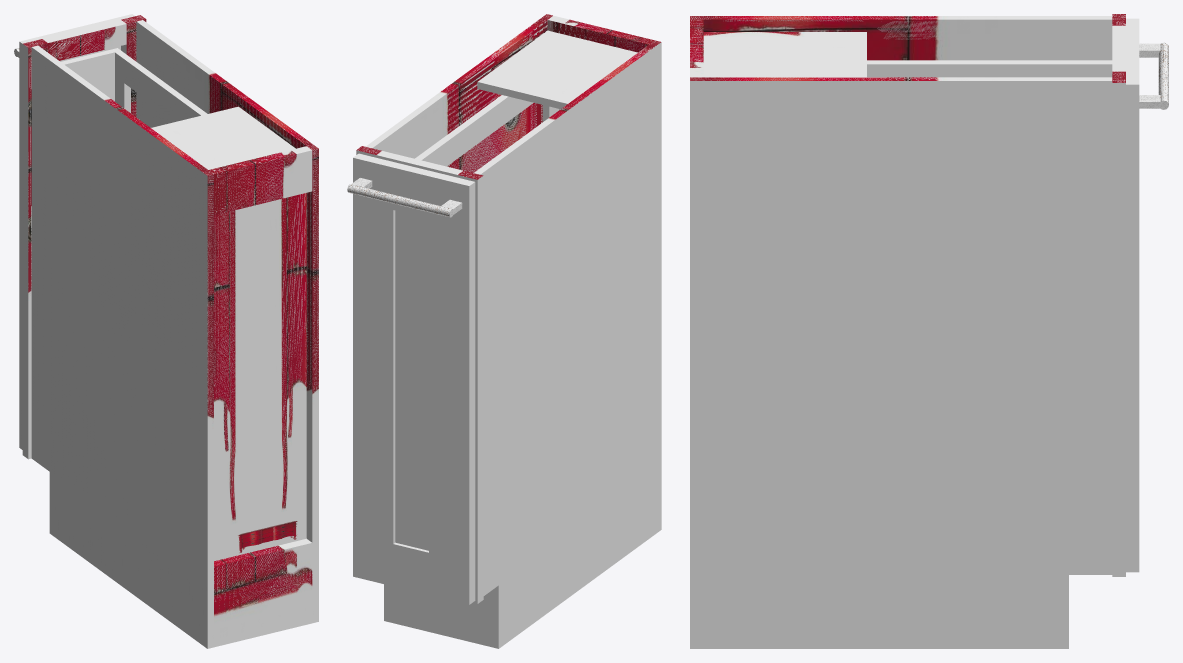
The picture shows the model from 3 angles, left to right: view 1: azimuth 30°, elevation 25°; view 2: azimuth 150°, elevation 25°; view 3: azimuth 270°, elevation 25°; orthographic projection. The views are drawn at different scales.
Visible parts, largest first — view 1: mesh7_mesh7-geometry, mesh4_mesh4-geometry, mesh8_mesh8-geometry, mesh10_mesh10-geometry, mesh12_mesh12-geometry, mesh6_mesh6-geometry, mesh14_mesh14-geometry, mesh2_mesh2-geometry, mesh3_mesh3-geometry, mesh15_mesh15-geometry, mesh5_mesh5-geometry, mesh30_mesh30-geometry (+4 smaller); view 2: mesh7_mesh7-geometry, mesh22_mesh22-geometry, mesh24_mesh24-geometry, mesh26_mesh26-geometry, mesh8_mesh8-geometry, mesh10_mesh10-geometry, mesh6_mesh6-geometry, mesh14_mesh14-geometry, mesh2_mesh2-geometry, mesh13_mesh13-geometry, mesh15_mesh15-geometry, mesh3_mesh3-geometry (+4 smaller); view 3: mesh10_mesh10-geometry, mesh11_mesh11-geometry, mesh9_mesh9-geometry, mesh7_mesh7-geometry, mesh14_mesh14-geometry, mesh2_mesh2-geometry, mesh24_mesh24-geometry, mesh15_mesh15-geometry, mesh6_mesh6-geometry, mesh3_mesh3-geometry, mesh27_mesh27-geometry.
Boxes of the visible parts, x1,y1,x2,y2 form: mesh7_mesh7-geometry: (49, 58, 213, 587); mesh4_mesh4-geometry: (214, 193, 306, 561); mesh8_mesh8-geometry: (49, 472, 213, 648); mesh10_mesh10-geometry: (154, 33, 318, 561); mesh12_mesh12-geometry: (214, 538, 312, 647); mesh6_mesh6-geometry: (31, 45, 55, 471); mesh14_mesh14-geometry: (151, 106, 295, 169); mesh2_mesh2-geometry: (22, 15, 146, 459); mesh3_mesh3-geometry: (208, 146, 312, 215); mesh15_mesh15-geometry: (124, 57, 207, 121); mesh5_mesh5-geometry: (43, 20, 126, 60); mesh30_mesh30-geometry: (228, 513, 306, 557); mesh7_mesh7-geometry: (492, 40, 661, 584); mesh22_mesh22-geometry: (429, 172, 475, 604); mesh24_mesh24-geometry: (353, 153, 398, 586); mesh26_mesh26-geometry: (395, 210, 428, 550); mesh8_mesh8-geometry: (492, 466, 661, 648); mesh10_mesh10-geometry: (384, 14, 552, 172); mesh6_mesh6-geometry: (474, 159, 498, 595); mesh14_mesh14-geometry: (477, 30, 637, 109); mesh2_mesh2-geometry: (356, 146, 483, 603); mesh13_mesh13-geometry: (390, 586, 491, 647); mesh15_mesh15-geometry: (415, 95, 533, 166); mesh3_mesh3-geometry: (547, 15, 654, 52); mesh10_mesh10-geometry: (690, 77, 1068, 574); mesh11_mesh11-geometry: (690, 575, 1068, 648); mesh9_mesh9-geometry: (1069, 77, 1112, 574); mesh7_mesh7-geometry: (690, 16, 1068, 60); mesh14_mesh14-geometry: (703, 32, 866, 77); mesh2_mesh2-geometry: (1112, 14, 1125, 576); mesh24_mesh24-geometry: (1126, 61, 1139, 572); mesh15_mesh15-geometry: (867, 60, 1093, 77); mesh6_mesh6-geometry: (1069, 16, 1112, 60); mesh3_mesh3-geometry: (690, 19, 703, 77); mesh27_mesh27-geometry: (1158, 42, 1168, 109).
Bounding box in the file's own units: 0.2029 × 0.7779 × 0.5947.
